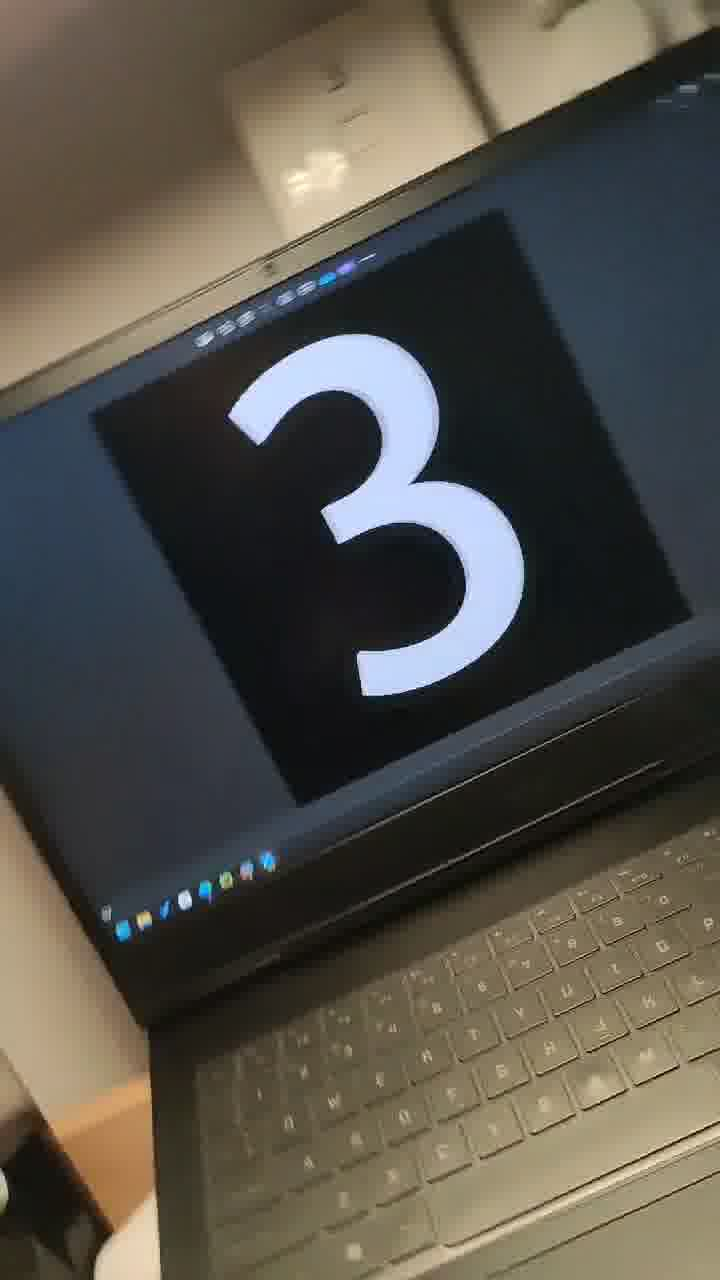three: (213, 262, 555, 733)
